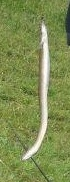Anguilla anguilla: (20, 20, 50, 162)
